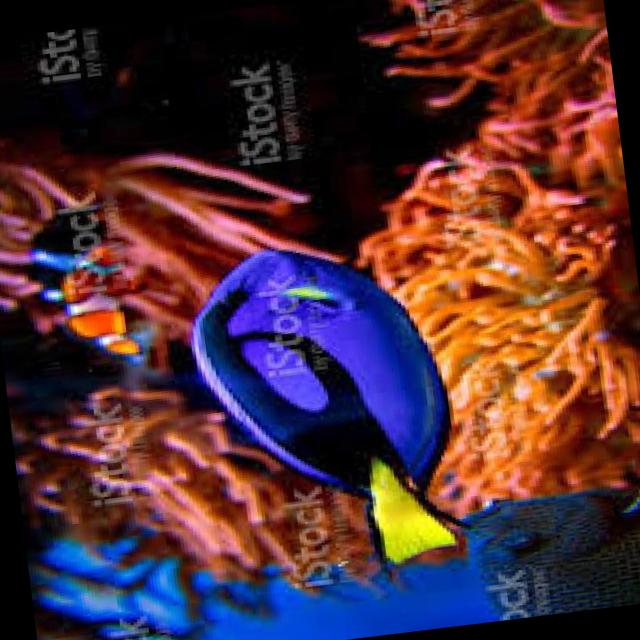ClownFish: (50, 244, 147, 368)
